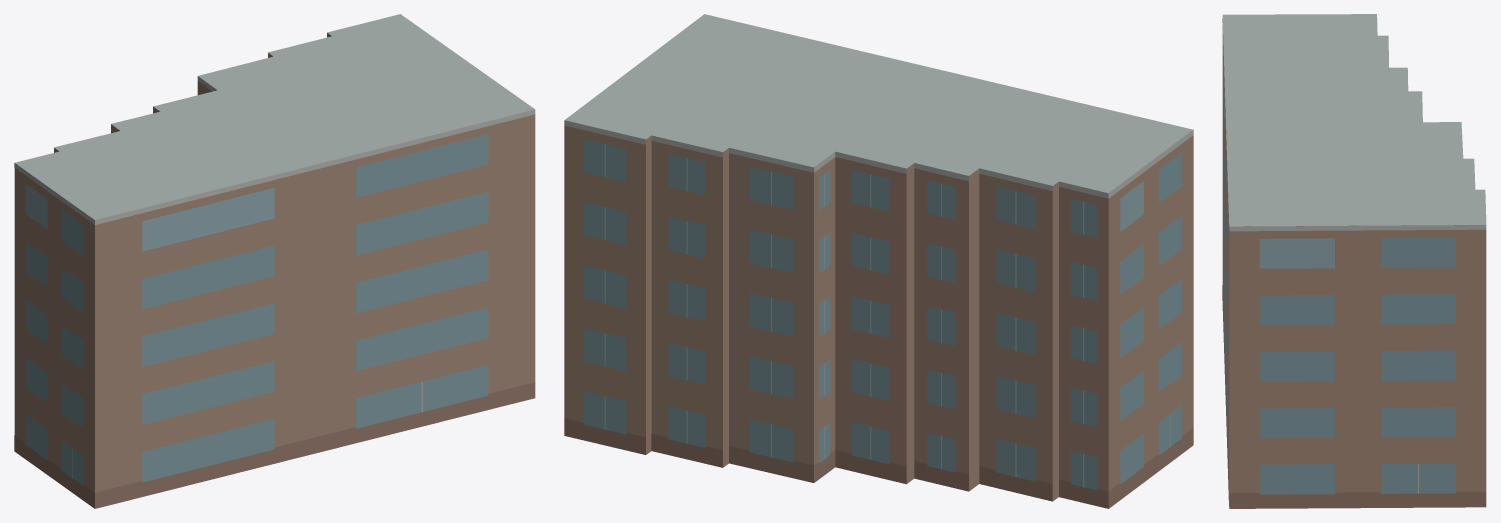
Rendered from survey-upis-33033393.glb.
3 renders of one model, left to right at view 1: azimuth 30°, elevation 25°; view 2: azimuth 150°, elevation 25°; view 3: azimuth 270°, elevation 25°, orthographic. The views are drawn at different scales.
Parts seen in each view (by area): view 1: survey-upis-33033393.tmp; view 2: survey-upis-33033393.tmp; view 3: survey-upis-33033393.tmp.
Part boxes in pixels (box(x1,y1,x2,y2)): survey-upis-33033393.tmp: box(14, 14, 535, 508); survey-upis-33033393.tmp: box(564, 14, 1193, 508); survey-upis-33033393.tmp: box(1222, 14, 1486, 508).
Bounding box in the file's own units: 23.26 × 14.4 × 12.21.
